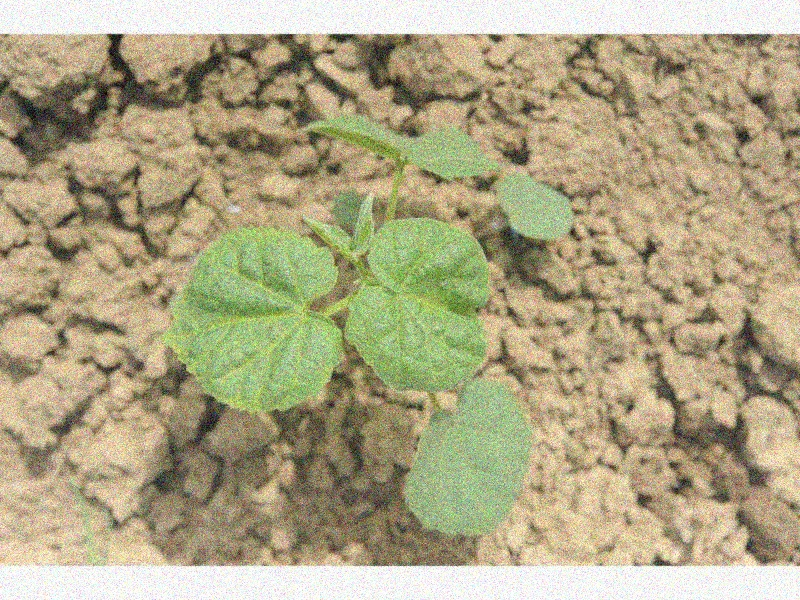velvet: (160, 112, 573, 536)
